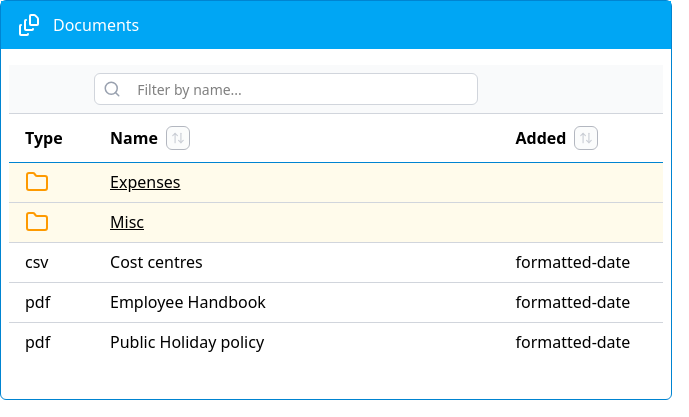
Test: DocumentTable › Folder Navigation › navigates back to parent folder
Click the button "Expenses".
click(145, 182)  # box 9,162 -> 663,202
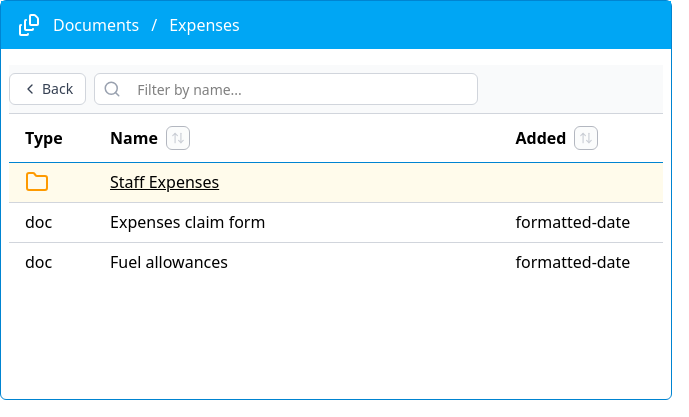
Result: the text "Expenses claim form" is shown at 94,202 -> 500,242
Click the button with aria-label "Navigate up a level".
click(48, 89)  # box 9,73 -> 86,105
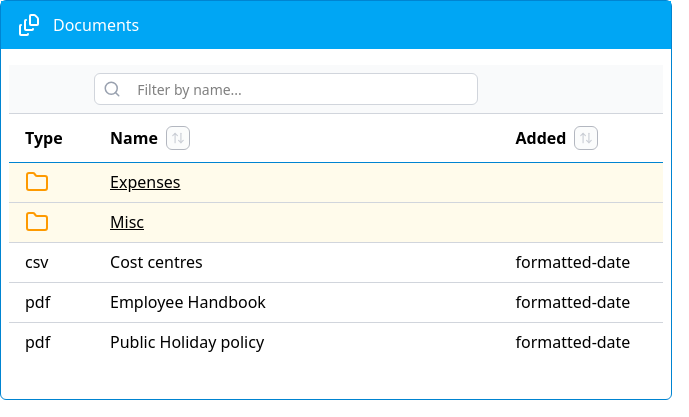
Result: the text "Employee Handbook" is shown at 94,282 -> 500,322
Result: the text "Expenses claim form" is gone
